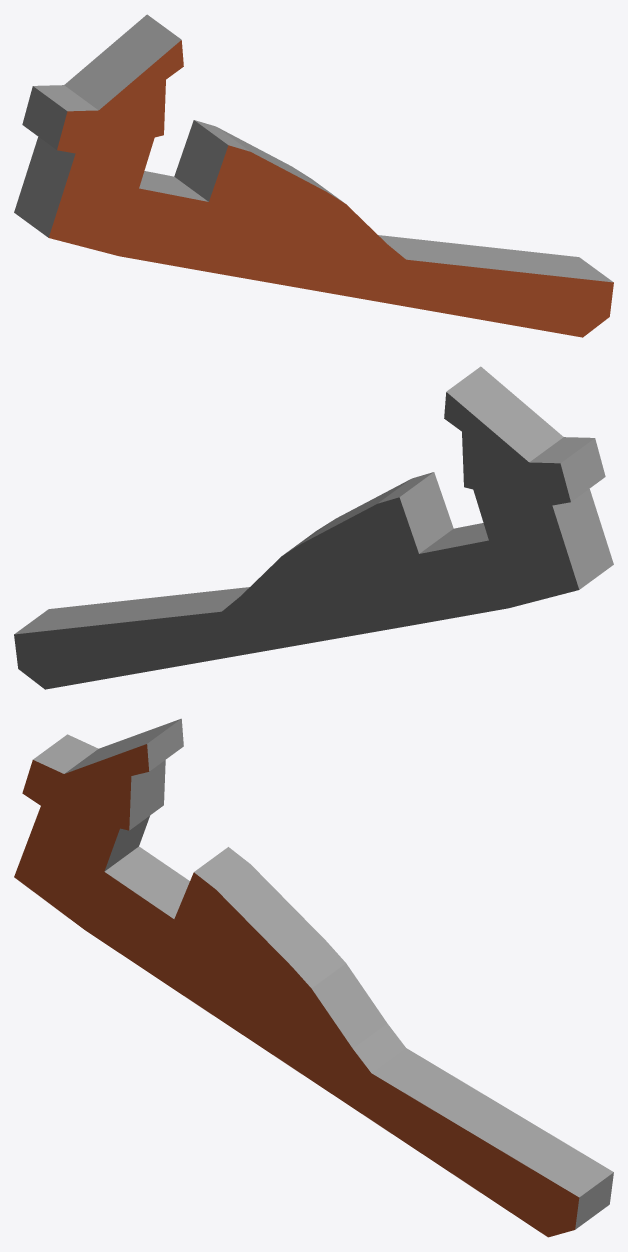
The model's file is construction_2809_assumed_A_Casa_h6m.obj.
3 views of the same model, one above another, from view 1: azimuth 30°, elevation 25°; view 2: azimuth 150°, elevation 25°; view 3: azimuth 330°, elevation 25° (orthographic).
Visible parts, largest first — view 1: construction_2809_assumed_A_Casa; view 2: construction_2809_assumed_A_Casa; view 3: construction_2809_assumed_A_Casa.
Part boxes in pixels (box(x1,y1,x2,y2)): construction_2809_assumed_A_Casa: box(14, 14, 613, 337); construction_2809_assumed_A_Casa: box(14, 366, 613, 689); construction_2809_assumed_A_Casa: box(14, 718, 613, 1237).
Size of the model in its own units: 56.5 by 37.79 by 6.
